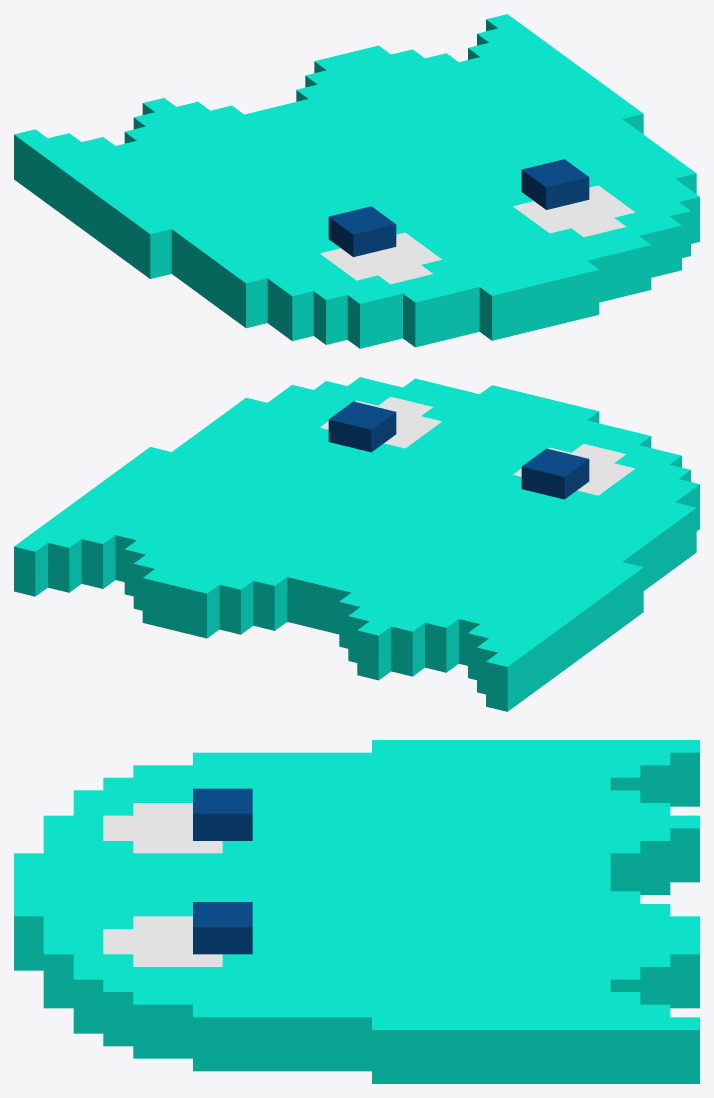
File: Ghost Down.obj
3 renders of one model, top to bottom at view 1: azimuth 30°, elevation 25°; view 2: azimuth 150°, elevation 25°; view 3: azimuth 270°, elevation 25°, orthographic. The views are drawn at different scales.
Size of the model in its own units: 23 by 3 by 23.
Materials: 1 (1 with a texture image).
